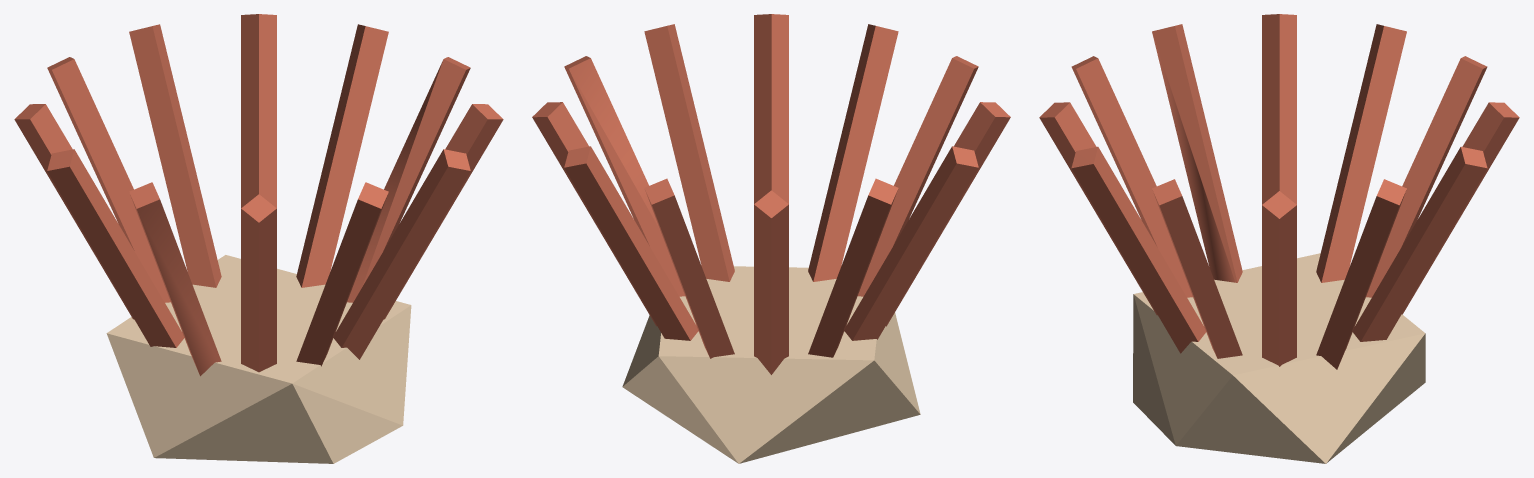
File: reef.anemone.lod1.glb
The picture shows the model from 3 angles, left to right: view 1: azimuth 30°, elevation 25°; view 2: azimuth 150°, elevation 25°; view 3: azimuth 270°, elevation 25°; orthographic projection. The views are drawn at different scales.
Visible parts, largest first — view 1: Foot, Tentacle.001, Tentacle.003, Tentacle.010, Tentacle.006, Tentacle.002, Tentacle, Tentacle.004, Tentacle.008, Tentacle.007, Tentacle.009, Tentacle.005 (+1 smaller); view 2: Foot, Tentacle.009, Tentacle.011, Tentacle.006, Tentacle.002, Tentacle.010, Tentacle, Tentacle.008, Tentacle.004, Tentacle.003, Tentacle.005, Tentacle.001 (+1 smaller); view 3: Foot, Tentacle.005, Tentacle.007, Tentacle.010, Tentacle.002, Tentacle.006, Tentacle.004, Tentacle.008, Tentacle, Tentacle.001, Tentacle.011, Tentacle.009 (+1 smaller).
Part boxes in pixels (bbox=[...]): Foot: bbox=[106, 255, 411, 463]; Tentacle.001: bbox=[296, 24, 388, 287]; Tentacle.003: bbox=[129, 24, 221, 287]; Tentacle.010: bbox=[333, 149, 470, 359]; Tentacle.006: bbox=[47, 149, 184, 347]; Tentacle.002: bbox=[241, 14, 276, 207]; Tentacle: bbox=[347, 57, 470, 302]; Tentacle.004: bbox=[47, 57, 170, 302]; Tentacle.008: bbox=[241, 194, 276, 372]; Tentacle.007: bbox=[129, 182, 221, 376]; Tentacle.009: bbox=[296, 182, 388, 366]; Tentacle.005: bbox=[14, 104, 134, 319]; Foot: bbox=[622, 266, 920, 463]; Tentacle.009: bbox=[808, 24, 898, 281]; Tentacle.011: bbox=[644, 24, 734, 281]; Tentacle.006: bbox=[844, 146, 978, 340]; Tentacle.002: bbox=[564, 146, 698, 340]; Tentacle.010: bbox=[754, 14, 788, 203]; Tentacle: bbox=[564, 56, 684, 296]; Tentacle.008: bbox=[858, 56, 978, 296]; Tentacle.004: bbox=[754, 190, 788, 374]; Tentacle.003: bbox=[644, 178, 734, 358]; Tentacle.005: bbox=[808, 178, 898, 357]; Tentacle.001: bbox=[532, 102, 656, 326]; Foot: bbox=[1133, 253, 1425, 463]; Tentacle.005: bbox=[1316, 24, 1406, 282]; Tentacle.007: bbox=[1152, 24, 1242, 282]; Tentacle.010: bbox=[1071, 146, 1205, 353]; Tentacle.002: bbox=[1353, 146, 1487, 341]; Tentacle.006: bbox=[1262, 14, 1296, 204]; Tentacle.004: bbox=[1366, 56, 1487, 297]; Tentacle.008: bbox=[1071, 56, 1192, 297]; Tentacle: bbox=[1262, 191, 1296, 366]; Tentacle.001: bbox=[1316, 179, 1406, 369]; Tentacle.011: bbox=[1152, 179, 1242, 358]; Tentacle.009: bbox=[1039, 102, 1157, 315].
Bounding box in the file's own units: 0.4917 × 0.3385 × 0.4917.
